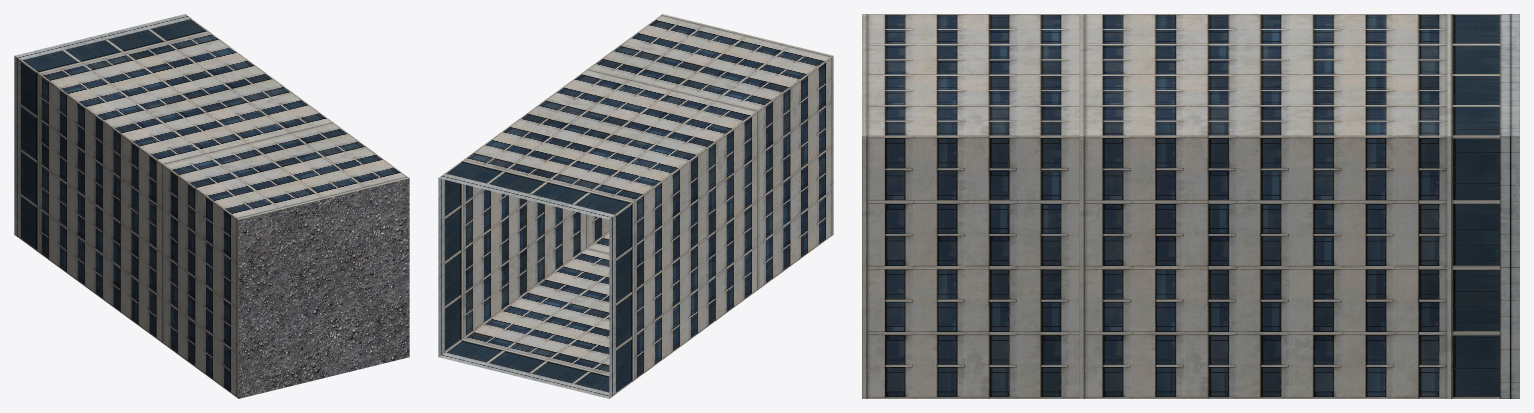
File: mp_nuketown_2020_vista_bldg_03_LOD0.obj
3 views of the same model, side by side, from view 1: azimuth 30°, elevation 25°; view 2: azimuth 150°, elevation 25°; view 3: azimuth 270°, elevation 25° (orthographic). The views are drawn at different scales.
Visible parts, largest first — view 1: mp_m_vista_bldgs_01; view 2: mp_m_vista_bldgs_01; view 3: mp_m_vista_bldgs_01.
Part boxes in pixels (x1=…): mp_m_vista_bldgs_01: x1=14, y1=14, x2=409, y2=398; mp_m_vista_bldgs_01: x1=438, y1=14, x2=833, y2=398; mp_m_vista_bldgs_01: x1=862, y1=14, x2=1519, y2=398.
Size of the model in its own units: 1951 by 1951 by 4430.
Materials: 1 (1 with a texture image).
